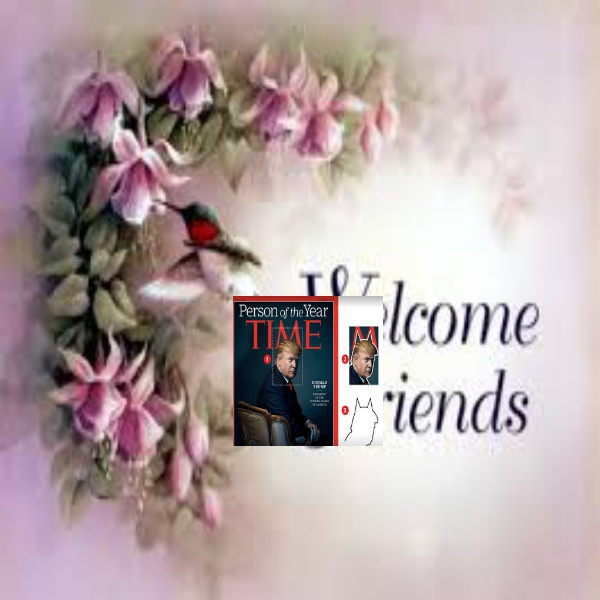time_cover: (224, 287, 348, 453)
